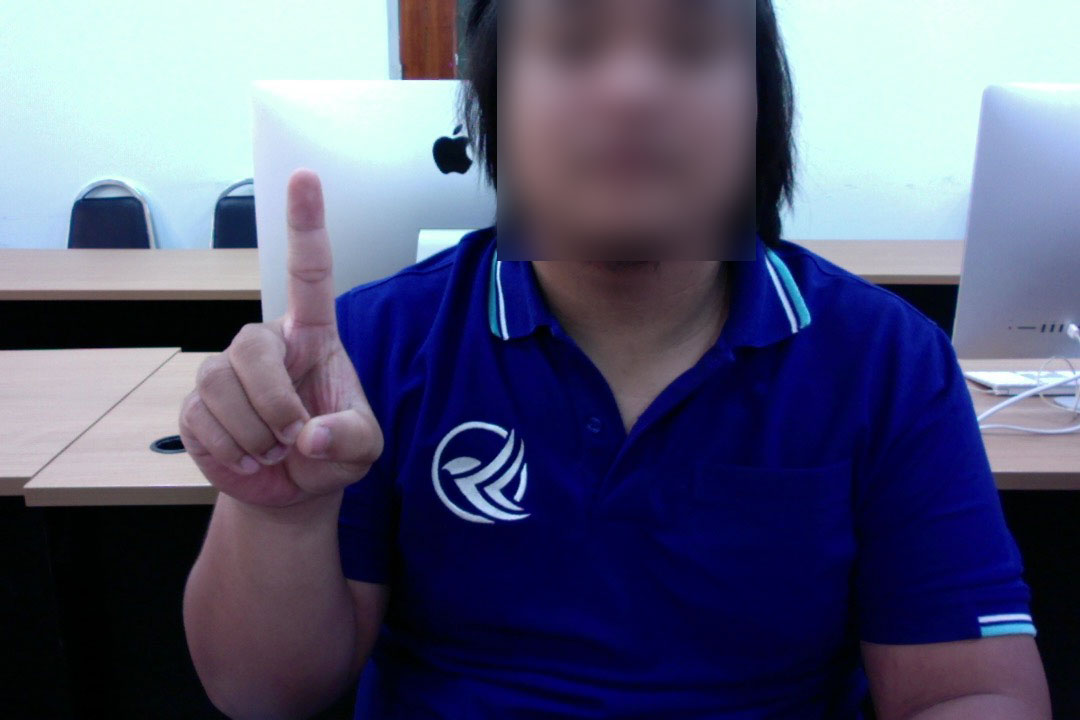dor: (156, 160, 389, 498)
